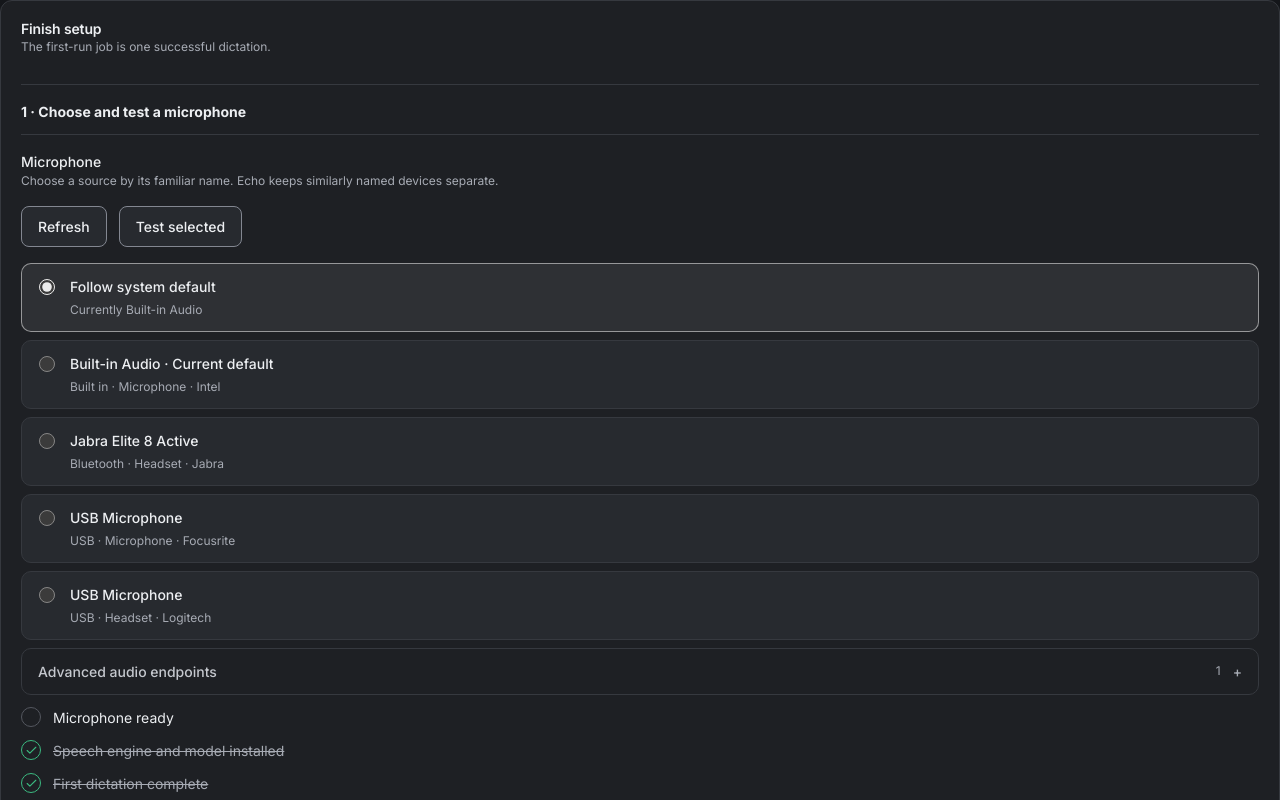
it: refreshes first-run inputs after a failed result
Click the button "Test selected".
click(180, 226)  # box 119,206 -> 242,247
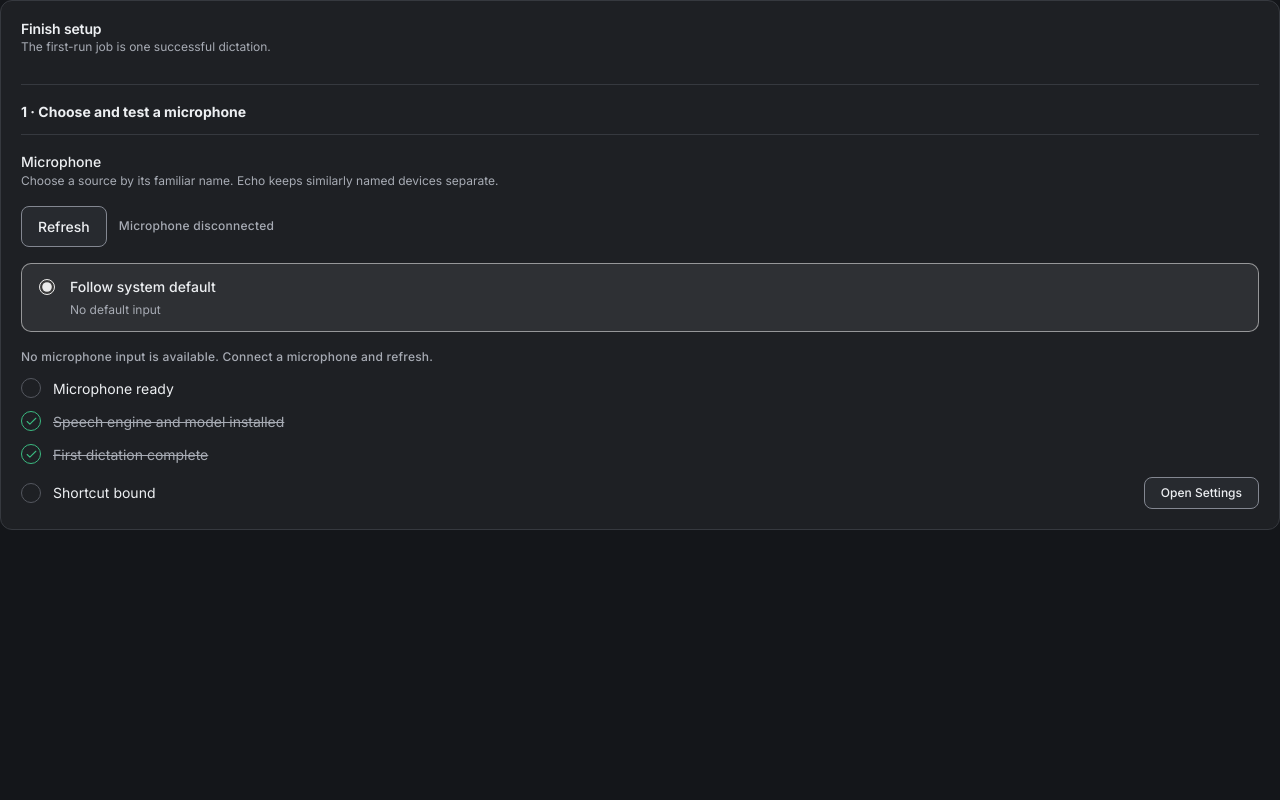
Expected: the text "No microphone input is available. Connect a microphone and refresh." is shown, 21,349 -> 433,364
Expected: the button "Test selected" is gone
Expected: the number of radio buttons is 1, 39,279 -> 55,295
